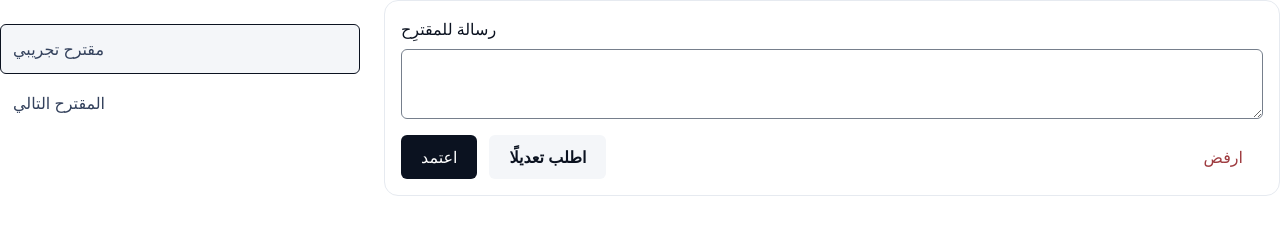
it: DecisionCard › ★ a message typed before «اعتمد» comes back at the box, kept — never discarded in silence (DEC-228 §4.1)
Type "شكرًا" into the text box labelled "رسالة للمقترِح".
click(832, 84); type("شكرًا")  # box [401,49,1263,119]
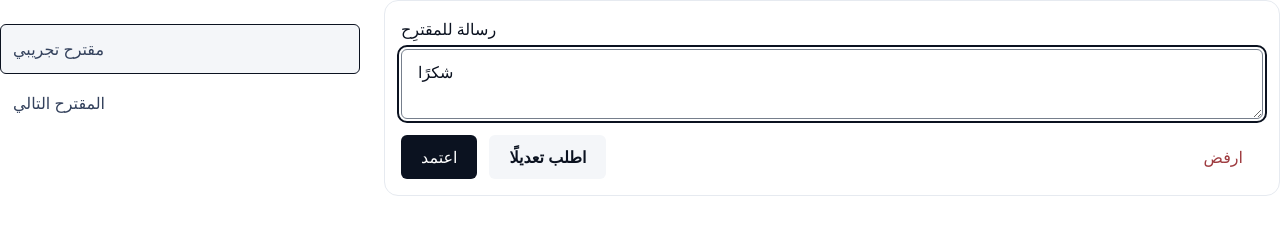
Click the button "اعتمد".
click(439, 157)  # box [401,135,478,179]
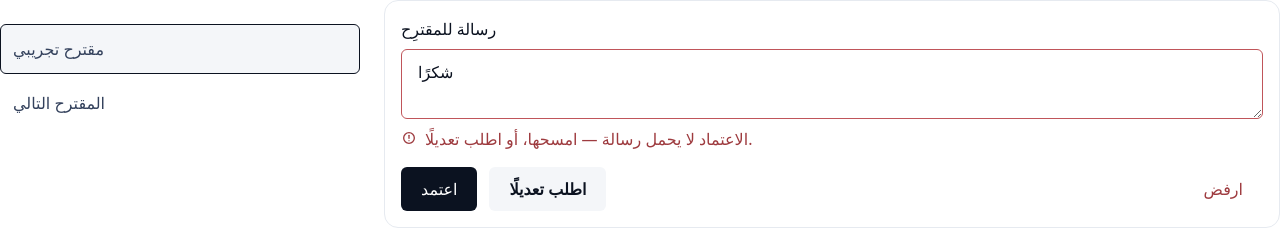
Expected: the text "الاعتماد لا يحمل رسالة — امسحها، أو اطلب تعديلًا." is shown, [425,127,752,151]
